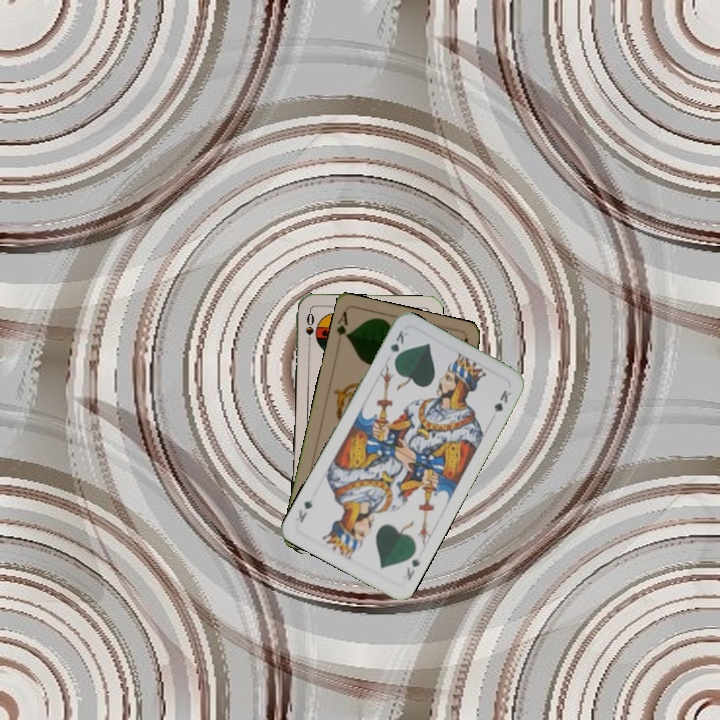GA: (333, 307, 353, 342)
GK: (386, 326, 410, 365), (402, 555, 423, 583)
SO: (302, 308, 317, 349)
